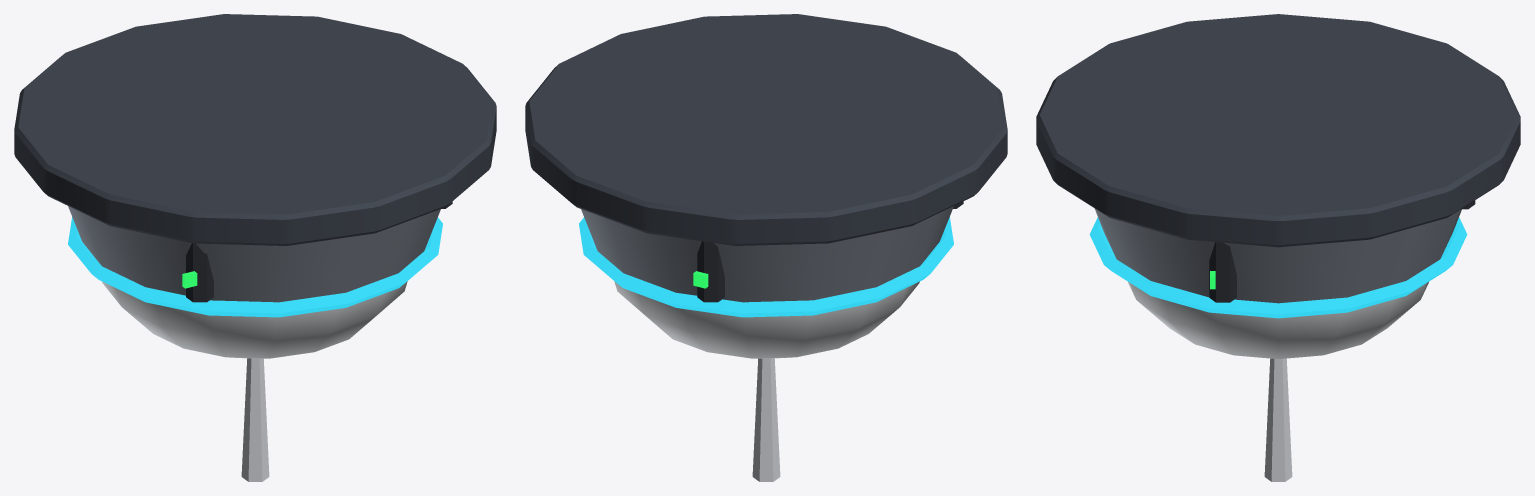
Rendered from antenna_ceiling_antenna_pod.glb.
3 renders of one model, left to right at view 1: azimuth 30°, elevation 25°; view 2: azimuth 150°, elevation 25°; view 3: azimuth 270°, elevation 25°, orthographic.
Parts seen in each view (by area): view 1: antenna_ceiling_antenna_pod; view 2: antenna_ceiling_antenna_pod; view 3: antenna_ceiling_antenna_pod.
Boxes of the visible parts, x1=… form: antenna_ceiling_antenna_pod: x1=14, y1=14, x2=496, y2=481; antenna_ceiling_antenna_pod: x1=525, y1=14, x2=1007, y2=481; antenna_ceiling_antenna_pod: x1=1036, y1=14, x2=1520, y2=481.
Bounding box in the file's own units: 0.6977 × 0.575 × 0.6977.
